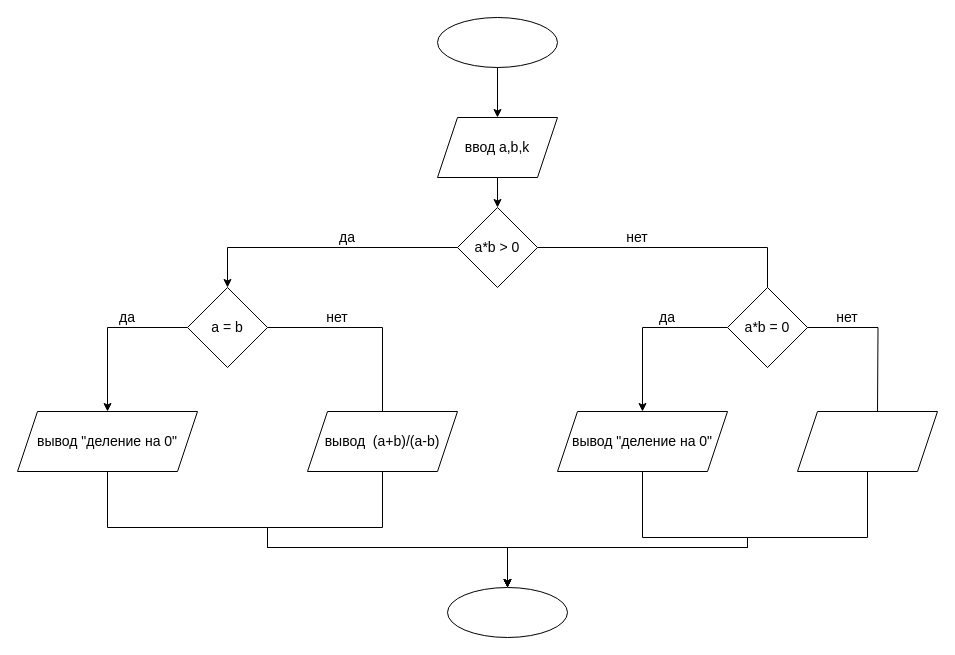
Some shapes in this 955 by 655 pixel diagram are drawn without their labels. The centre of each missing label's shape, as x and y in pixels:
"вывод -120/(a*b)" belongs at [867,441].
"конец" belongs at [507,612].
"начало" belongs at [497,42].
